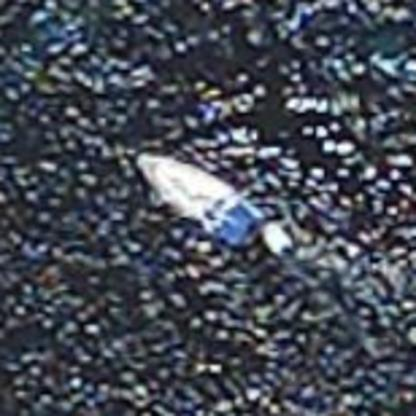ship: (122, 142, 298, 269)
